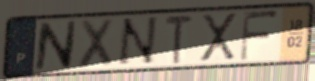F: (237, 9, 281, 63)
N: (33, 19, 79, 72), (115, 15, 160, 69)
T: (164, 14, 196, 66)
X: (75, 16, 117, 71), (200, 11, 239, 64)
